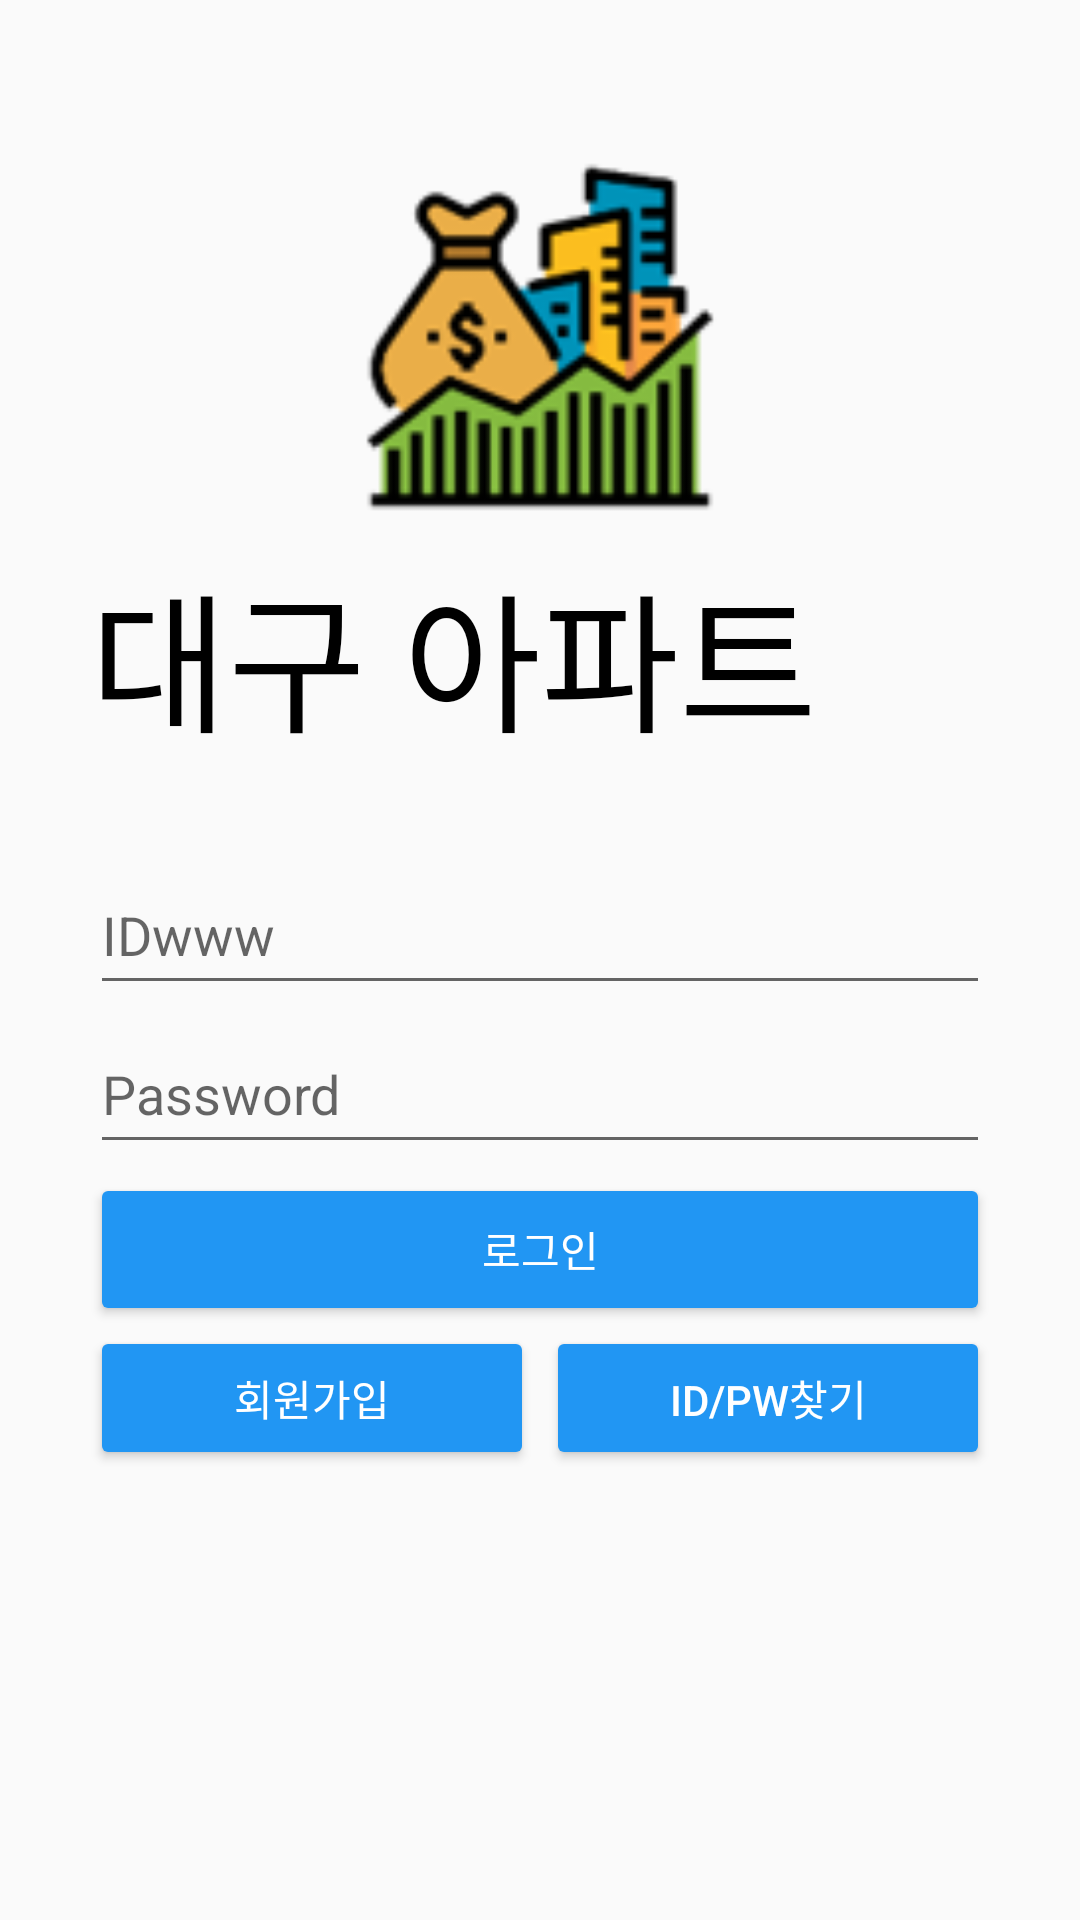

Icons on this 1080px×1920px Android screen, each with its box as [left=x1, top=y1, right=x2, bottom=y2]:
mainicon: [left=366, top=165, right=714, bottom=509]
